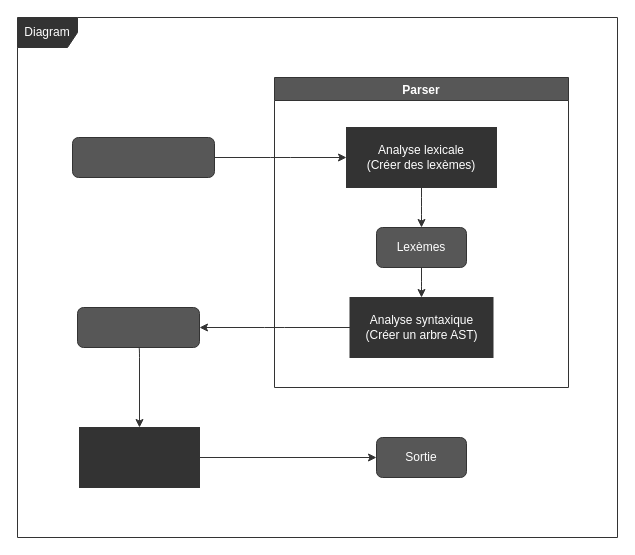
Image size: 635x555. Some labels were removed from this diagram. Here are the shapes that lost their labels. From the top down, the box of each, then its label:
(72, 136, 214, 178): Chaîne de caractères
(76, 306, 200, 348): Arbre AST
(78, 426, 200, 488): Interprète
